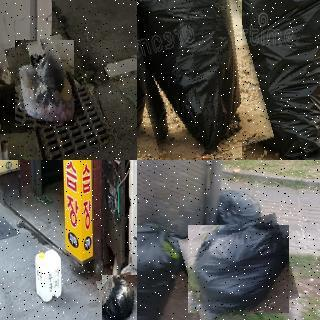Garbage: (137, 0, 257, 160), (222, 0, 320, 160), (183, 219, 294, 319), (10, 37, 79, 129), (137, 219, 194, 320), (213, 187, 263, 230), (99, 272, 137, 320)
